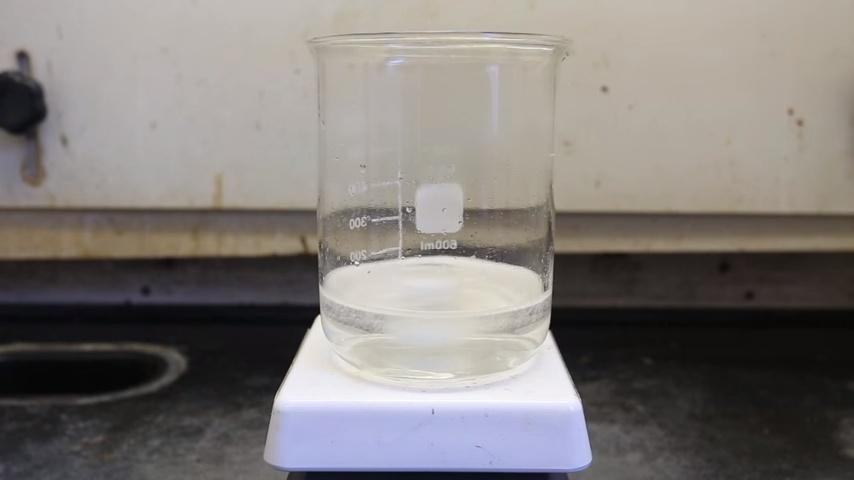Beaker: (305, 26, 573, 383)
